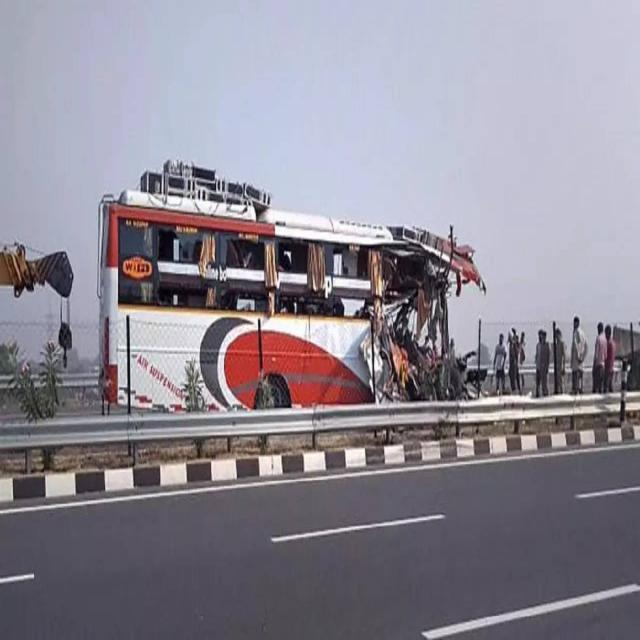accident: (99, 160, 484, 409)
